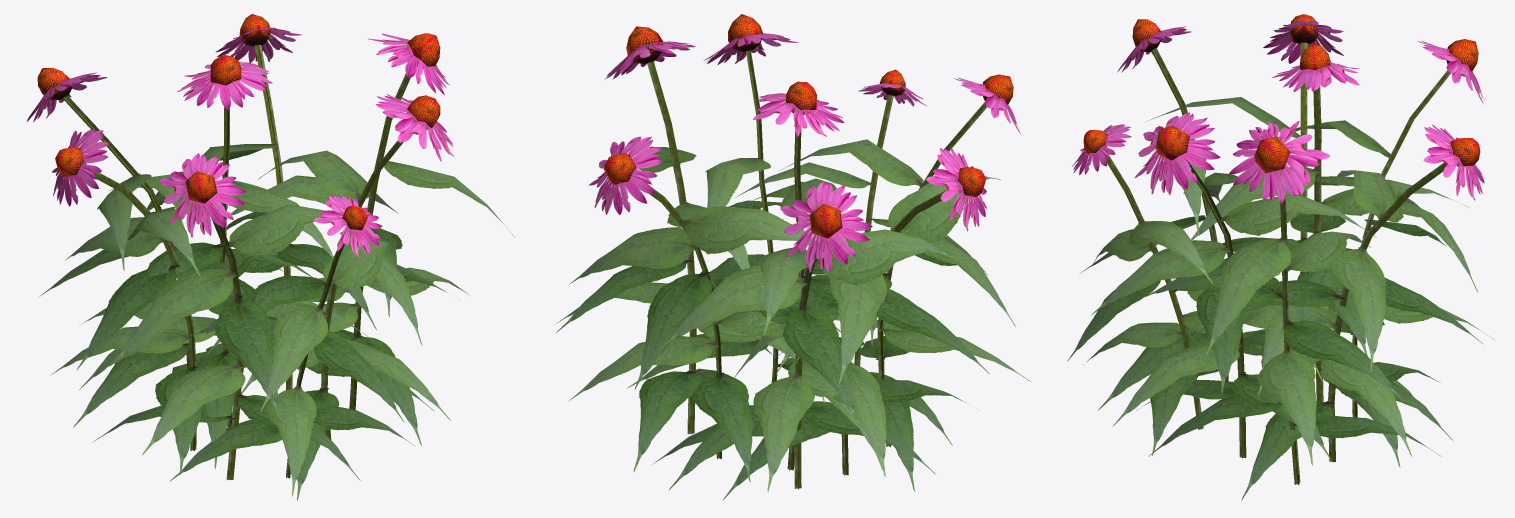
Rendered from flowers.glb.
3 views of the same model, side by side, from view 1: azimuth 30°, elevation 25°; view 2: azimuth 150°, elevation 25°; view 3: azimuth 270°, elevation 25° (orthographic).
Visible parts, largest first — view 1: Echinacea purpurea Magnus(Coneflower); view 2: Echinacea purpurea Magnus(Coneflower); view 3: Echinacea purpurea Magnus(Coneflower).
Boxes of the visible parts, bbox=[...] form: Echinacea purpurea Magnus(Coneflower): bbox=[27, 14, 515, 500]; Echinacea purpurea Magnus(Coneflower): bbox=[555, 14, 1030, 500]; Echinacea purpurea Magnus(Coneflower): bbox=[1067, 14, 1495, 500].
Size of the model in its own units: 0.6374 by 0.5491 by 0.5671.
1 material, 1 textured.
